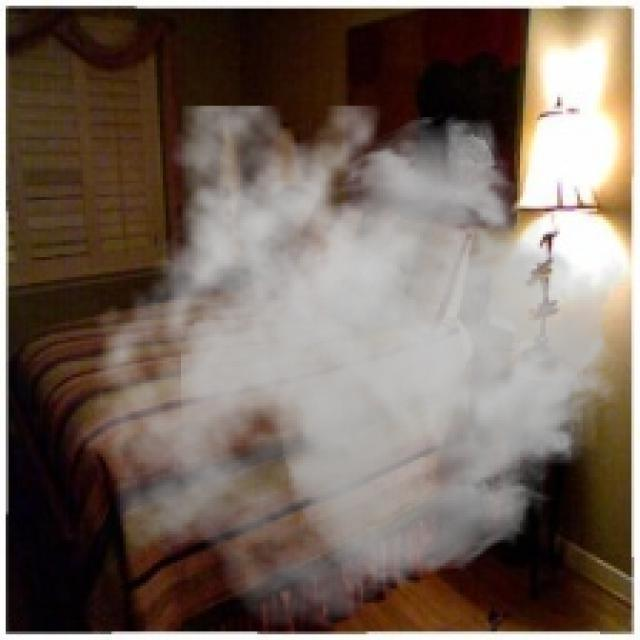Smoke: (77, 106, 632, 628)
